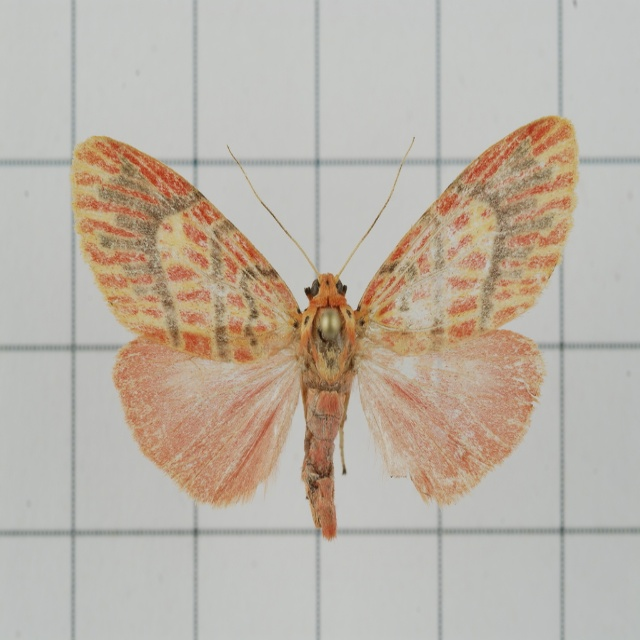Butterfly: (79, 120, 559, 558)
